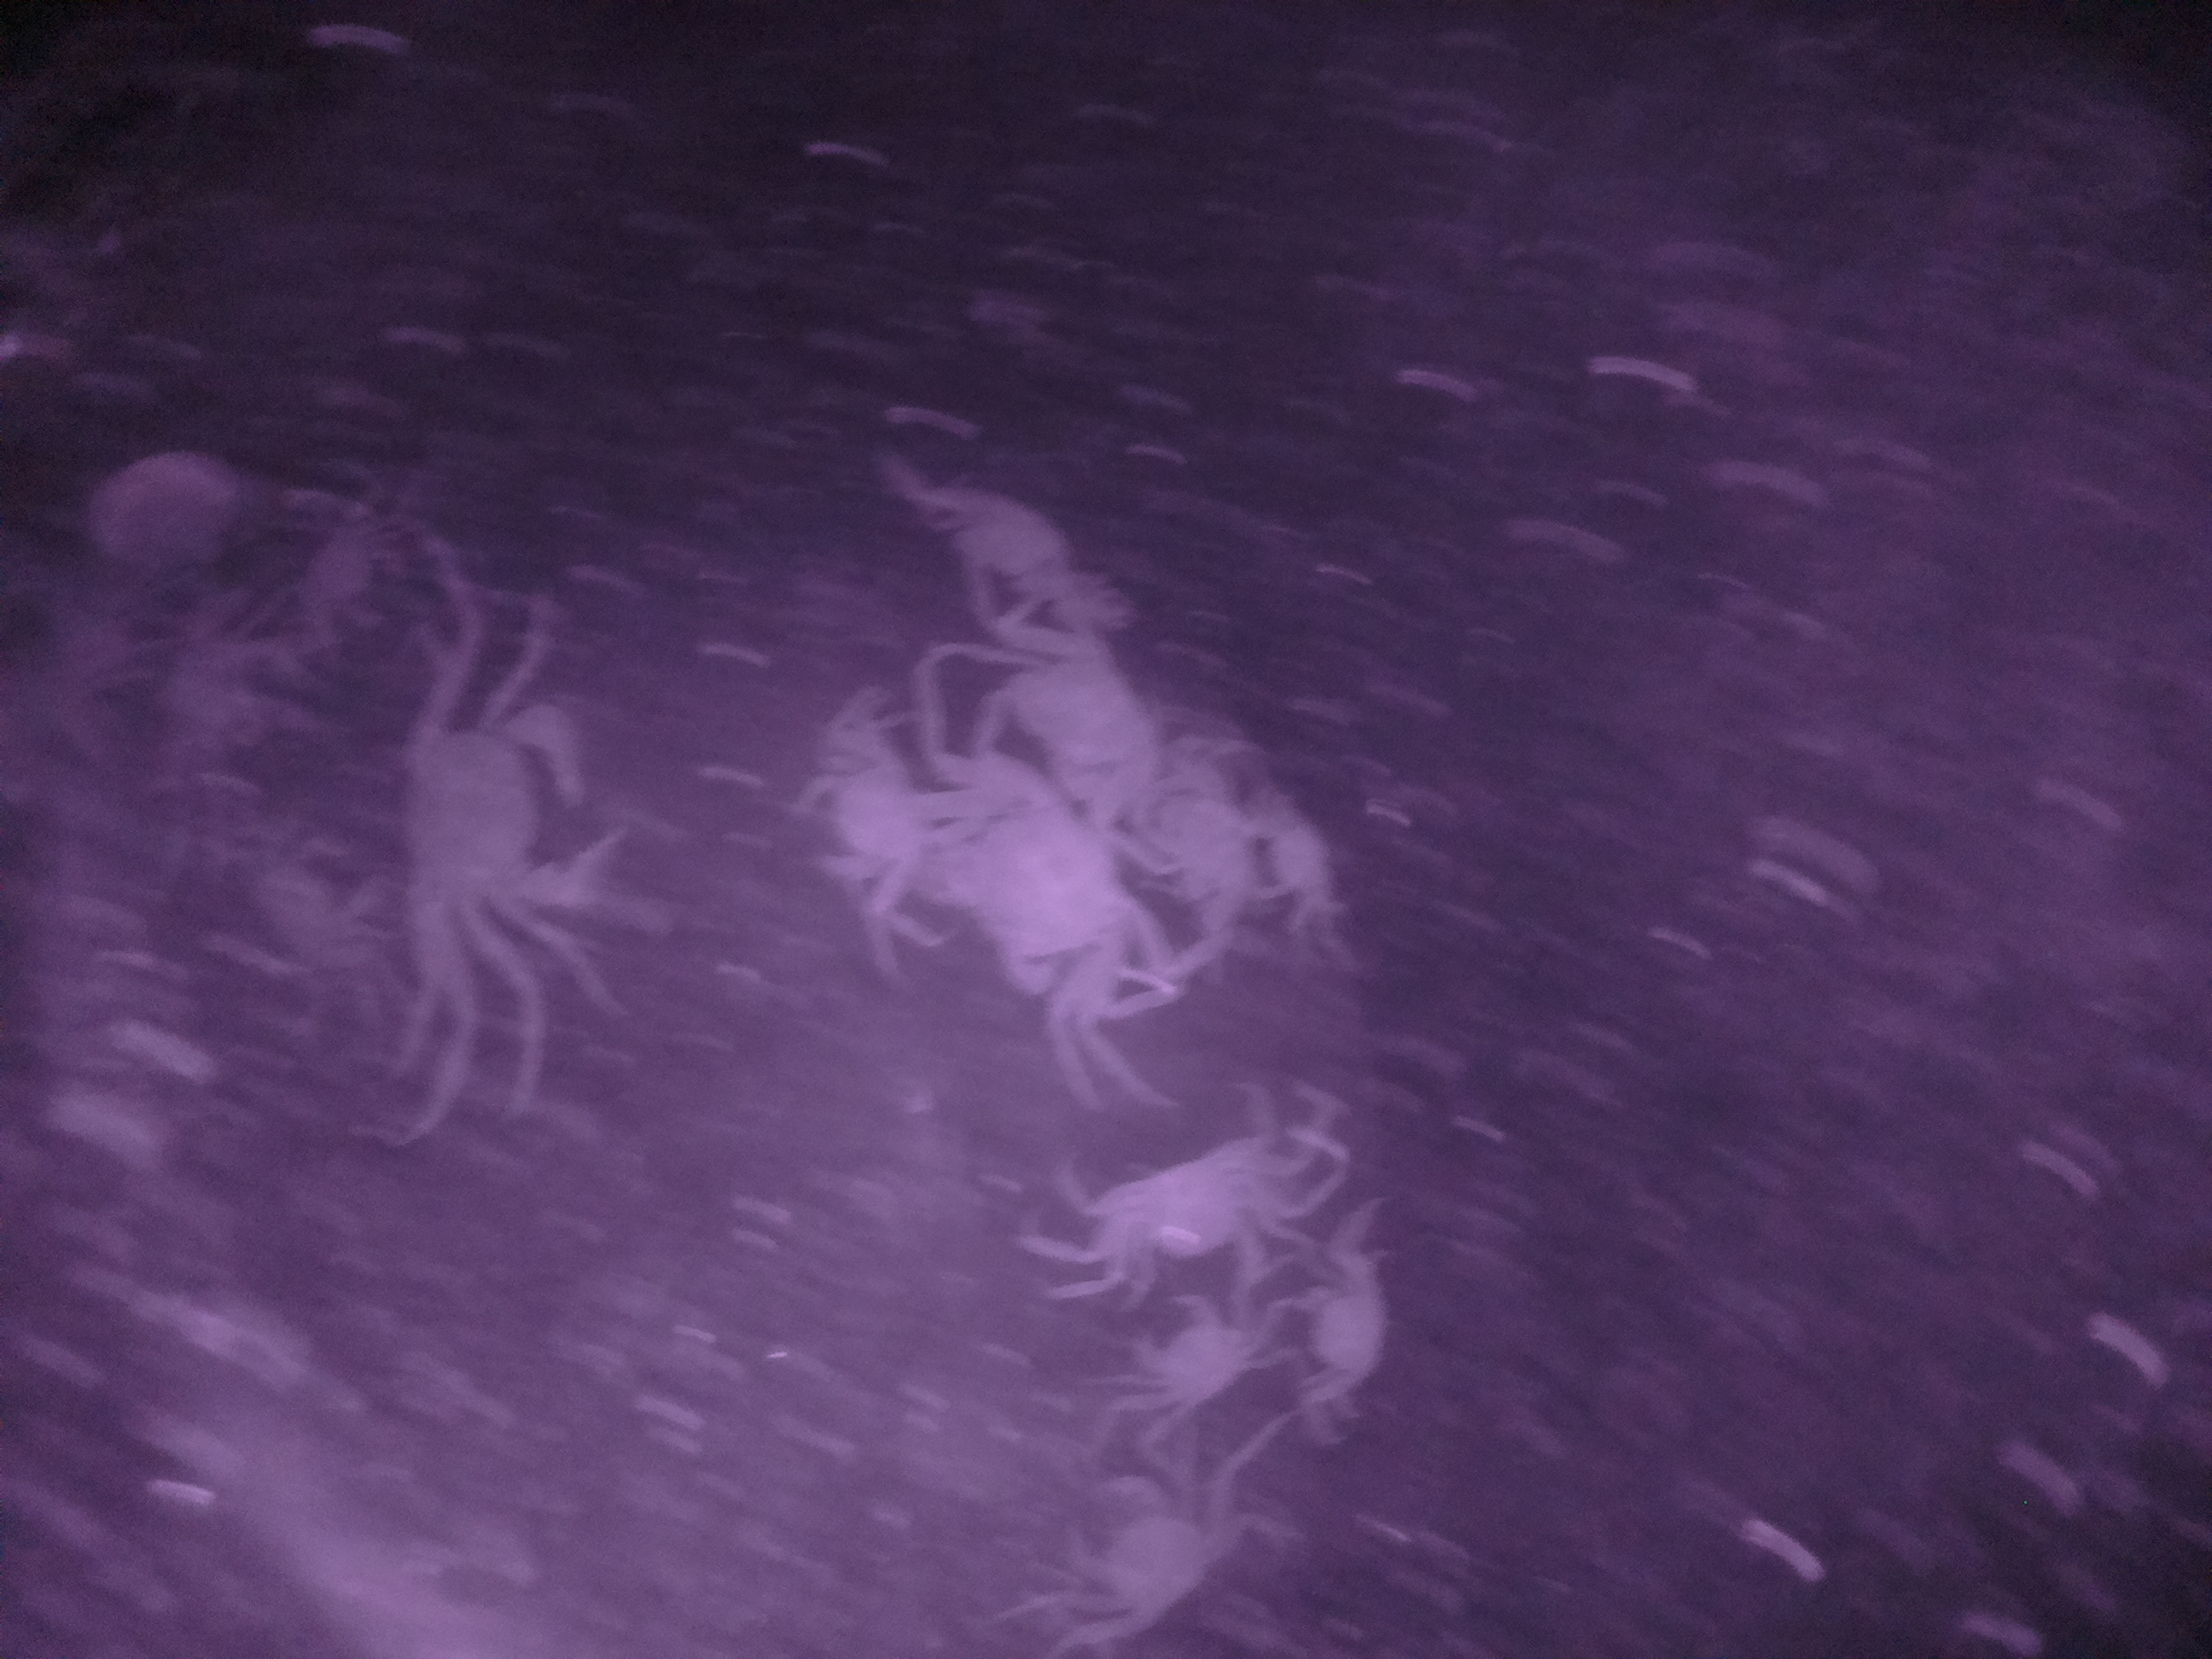Crab: (1057, 1115, 1327, 1298), (1055, 1441, 1233, 1631), (1104, 1267, 1277, 1441)
